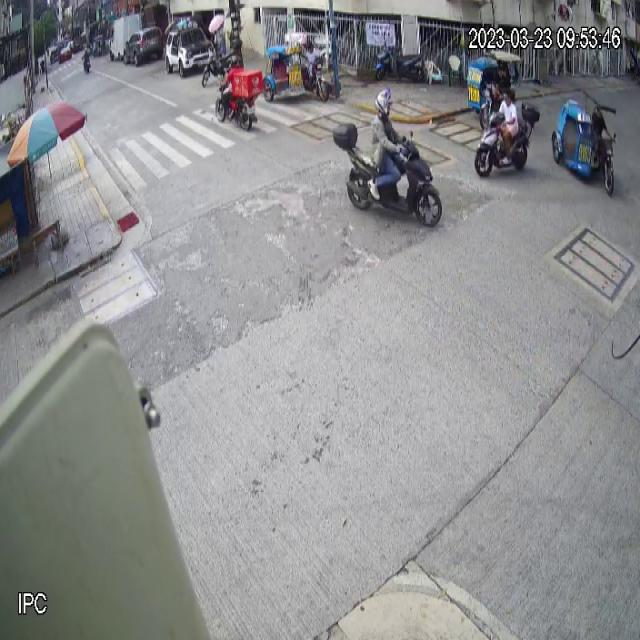Motorcycle: (332, 122, 442, 226), (474, 101, 540, 178), (215, 70, 262, 130)
Tricycle: (552, 88, 616, 197), (262, 32, 330, 103)
